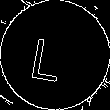L_N: (35, 28, 75, 82)
